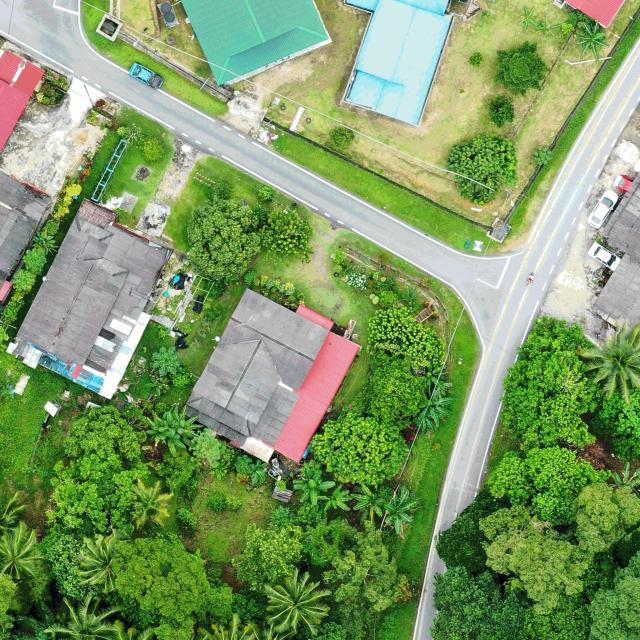0: (578, 321, 640, 402), (260, 569, 330, 637), (137, 402, 201, 456), (46, 594, 121, 640), (77, 534, 127, 590), (0, 524, 44, 580), (129, 479, 173, 530), (148, 447, 196, 492), (198, 613, 262, 640), (0, 483, 30, 529)
banana_tree2: (382, 486, 422, 539), (414, 389, 454, 435), (292, 470, 336, 506), (575, 18, 609, 63), (352, 481, 389, 522), (315, 484, 353, 515), (419, 359, 450, 396), (536, 14, 562, 39), (516, 4, 538, 30)
tree: (499, 316, 601, 452), (483, 503, 595, 616), (302, 518, 412, 617), (487, 445, 612, 526), (46, 449, 150, 538), (110, 532, 212, 620), (306, 411, 411, 484), (349, 350, 433, 434), (184, 196, 263, 282), (445, 132, 519, 206), (366, 305, 445, 373), (229, 521, 304, 592), (38, 525, 105, 602), (62, 403, 147, 461), (572, 481, 640, 553), (588, 387, 640, 461), (258, 206, 315, 265), (495, 41, 551, 95), (488, 95, 516, 128), (329, 126, 355, 152), (468, 51, 484, 68)
